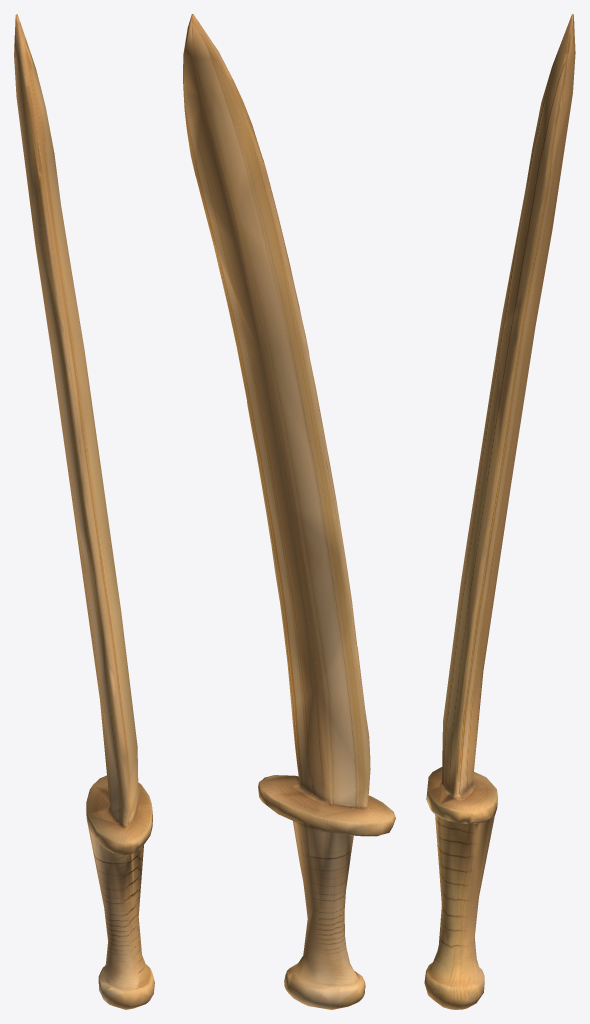
Rendered from Common.glb.
The picture shows the model from 3 angles, left to right: view 1: azimuth 90°, elevation 25°; view 2: azimuth 150°, elevation 25°; view 3: azimuth 270°, elevation 25°; orthographic projection. The views are drawn at different scales.
Parts seen in each view (by area): view 1: Mesh1.0; view 2: Mesh1.0; view 3: Mesh1.0.
Boxes of the visible parts, x1=… form: Mesh1.0: x1=14, y1=14, x2=154, y2=1009; Mesh1.0: x1=183, y1=14, x2=395, y2=1009; Mesh1.0: x1=424, y1=14, x2=575, y2=1009.
Size of the model in its own units: 0.3748 by 2.28 by 0.3052.
1 material, 1 textured.
